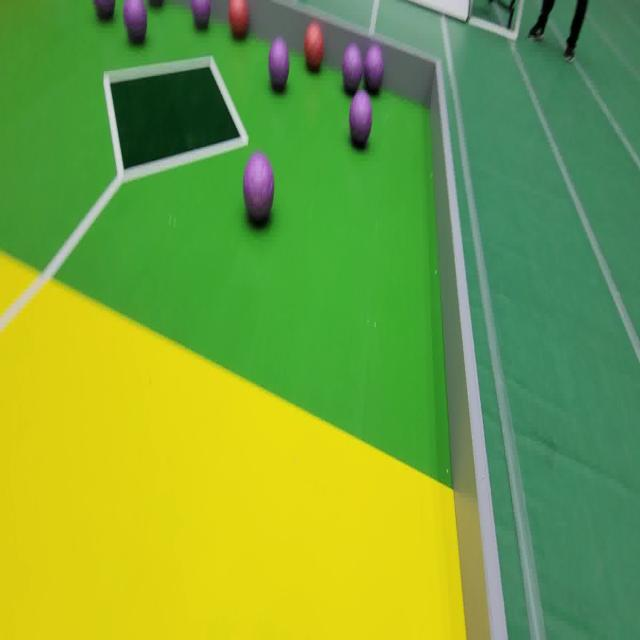purple_ball: (243, 152, 274, 232), (349, 90, 372, 148), (268, 37, 290, 91), (123, 0, 149, 42), (366, 42, 384, 97), (343, 40, 362, 90), (192, 0, 212, 30), (93, 0, 119, 23)
red_ball: (302, 18, 326, 75), (228, 0, 250, 39)
